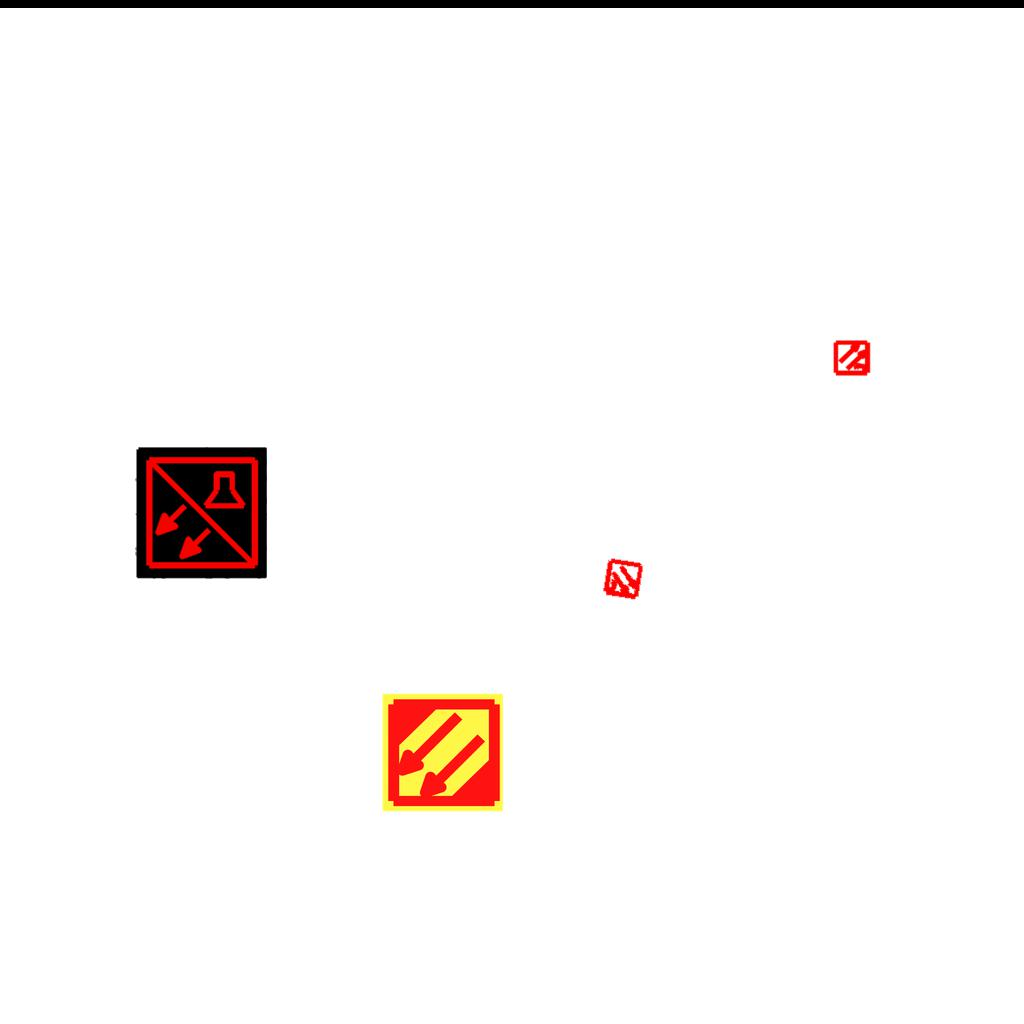ASR_Ansaugrauchmelder: (380, 690, 505, 815)
OKW_Multisensormelder_(Kombination_optischer_Rauch-Kahlenmonoxid_Waerme-Melder): (135, 447, 267, 579)
OT_Multisensormelder_(Kombination_RMO_WMD): (590, 547, 656, 613), (825, 330, 881, 386)
